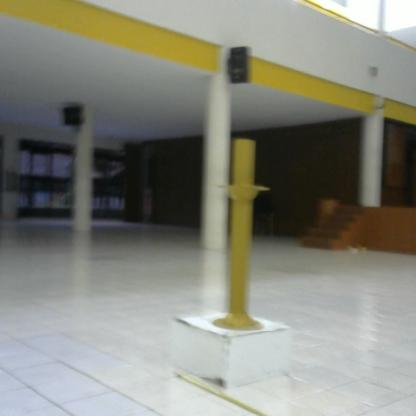pole: (207, 132, 277, 346)
